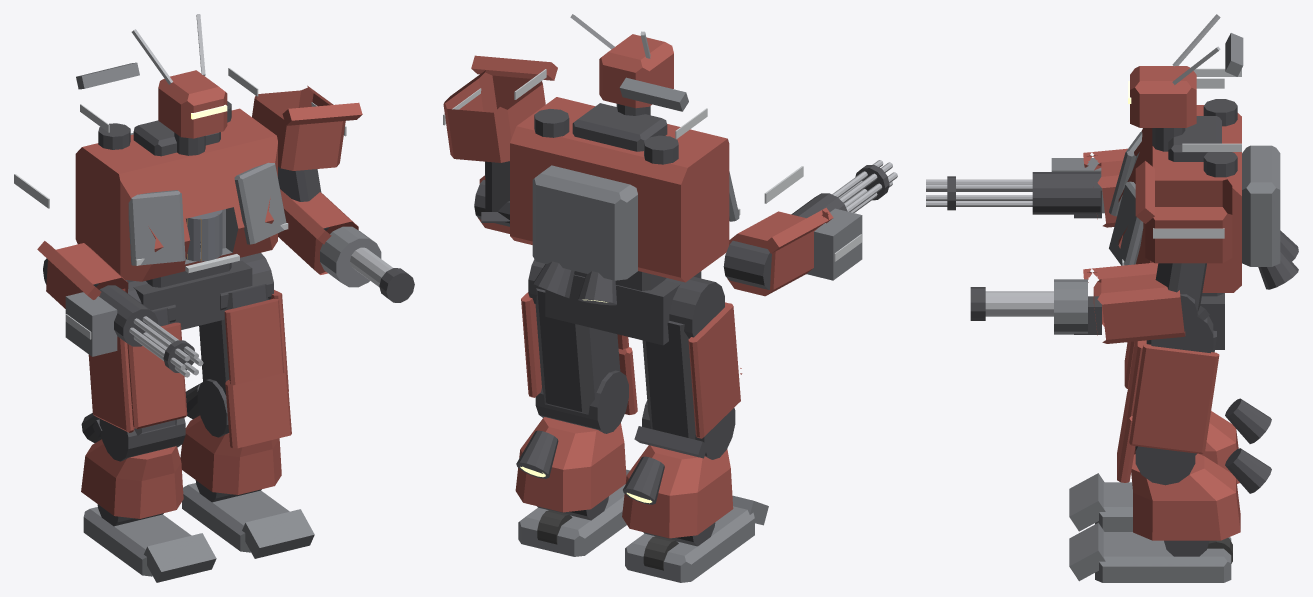
Rendered from anvil.glb.
3 renders of one model, left to right at view 1: azimuth 30°, elevation 25°; view 2: azimuth 150°, elevation 25°; view 3: azimuth 270°, elevation 25°, orthographic. The views are drawn at different scales.
Visible parts, largest first — view 1: core, shoulder1, shin-1, shin1, thigh1_front, kneeguard1, thigh-1_front, pec-1, hips, helm, forearm-1, foot-1 (+24 smaller); view 2: core, pack, shoulder1, shin1, shin-1, thigh1, thigh-1, hips, thigh-1_out, forearm-1, foot-1, helm (+21 smaller); view 3: thigh1_out, shoulder1, shin1, forearm1, foot1, core, pack, helm, gatling-1_body, grenade1_drum, knee1, pec1 (+31 smaller).
Part boxes in pixels (x1,y1,x2,y2): core: [75, 108, 277, 281]; shoulder1: [252, 85, 362, 170]; shin-1: [81, 439, 183, 518]; shin1: [180, 415, 281, 494]; thigh1_front: [224, 298, 284, 385]; kneeguard1: [225, 369, 291, 448]; thigh-1_front: [127, 322, 187, 429]; pec-1: [128, 190, 185, 265]; hips: [125, 261, 252, 329]; helm: [158, 70, 227, 138]; forearm-1: [37, 241, 128, 308]; foot-1: [83, 507, 191, 576]; core: [510, 97, 729, 282]; pack: [532, 165, 637, 280]; shoulder1: [443, 55, 557, 162]; shin1: [515, 417, 626, 512]; shin-1: [622, 445, 733, 538]; thigh1: [535, 288, 620, 414]; thigh-1: [634, 321, 707, 458]; hips: [545, 271, 701, 345]; thigh-1_out: [688, 303, 740, 438]; forearm-1: [727, 207, 833, 296]; foot-1: [625, 506, 754, 582]; helm: [599, 34, 673, 108]; thigh1_out: [1129, 344, 1219, 453]; shoulder1: [1135, 161, 1232, 263]; shin1: [1131, 453, 1240, 540]; forearm1: [1083, 262, 1185, 343]; foot1: [1095, 532, 1231, 582]; core: [1118, 105, 1241, 292]; pack: [1242, 145, 1280, 266]; helm: [1130, 66, 1196, 127]; gatling-1_body: [1032, 172, 1100, 214]; grenade1_drum: [1054, 279, 1087, 334]; knee1: [1135, 446, 1195, 485]; pec1: [1109, 181, 1143, 265].
Size of the model in its own units: 17.6 by 26.57 by 17.51.
